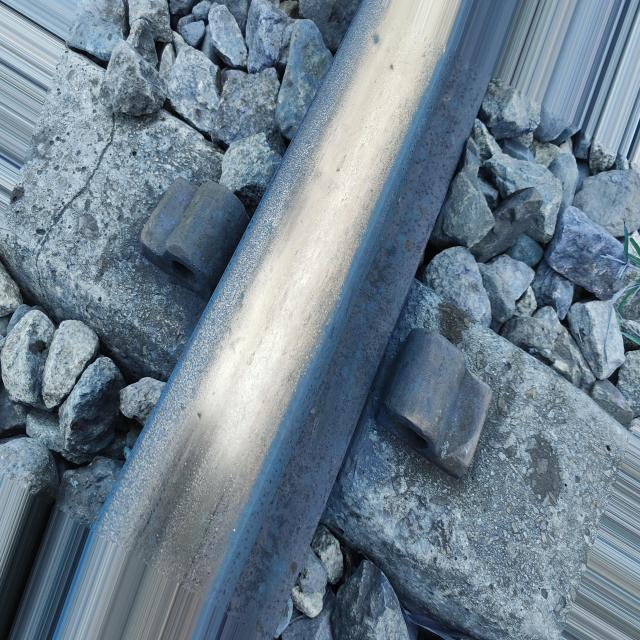Missing Fastener: (377, 319, 525, 489), (121, 136, 267, 303)
